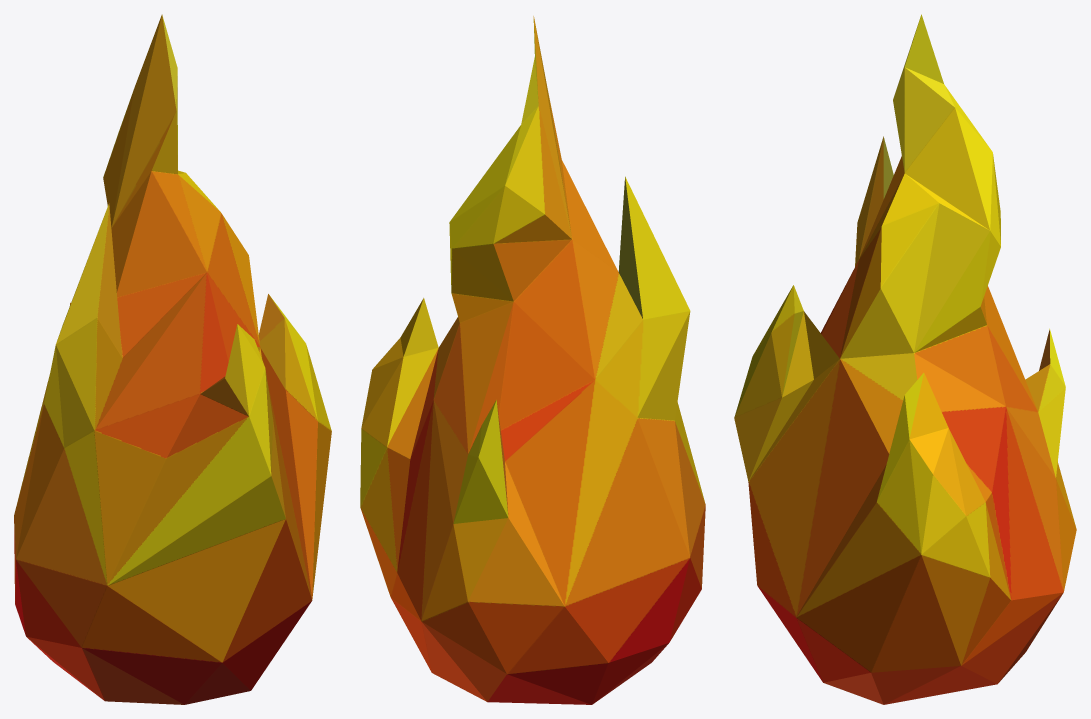
The model's file is fire.fbx.
The picture shows the model from 3 angles, left to right: view 1: azimuth 30°, elevation 25°; view 2: azimuth 150°, elevation 25°; view 3: azimuth 270°, elevation 25°; orthographic projection.
Parts seen in each view (by area): view 1: Mesh_0; view 2: Mesh_0; view 3: Mesh_0.
Boxes of the visible parts, box(x1,y1,x2,y2) form: Mesh_0: box(14, 14, 331, 704); Mesh_0: box(360, 16, 705, 704); Mesh_0: box(734, 14, 1076, 704).
Bounding box in the file's own units: 80.73 × 163 × 74.85.
Materials: 1 (1 with a texture image).
